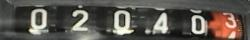digits: (111, 10, 134, 34), (28, 8, 49, 34), (222, 12, 237, 40), (70, 9, 88, 31), (151, 12, 168, 34), (190, 15, 206, 34)
